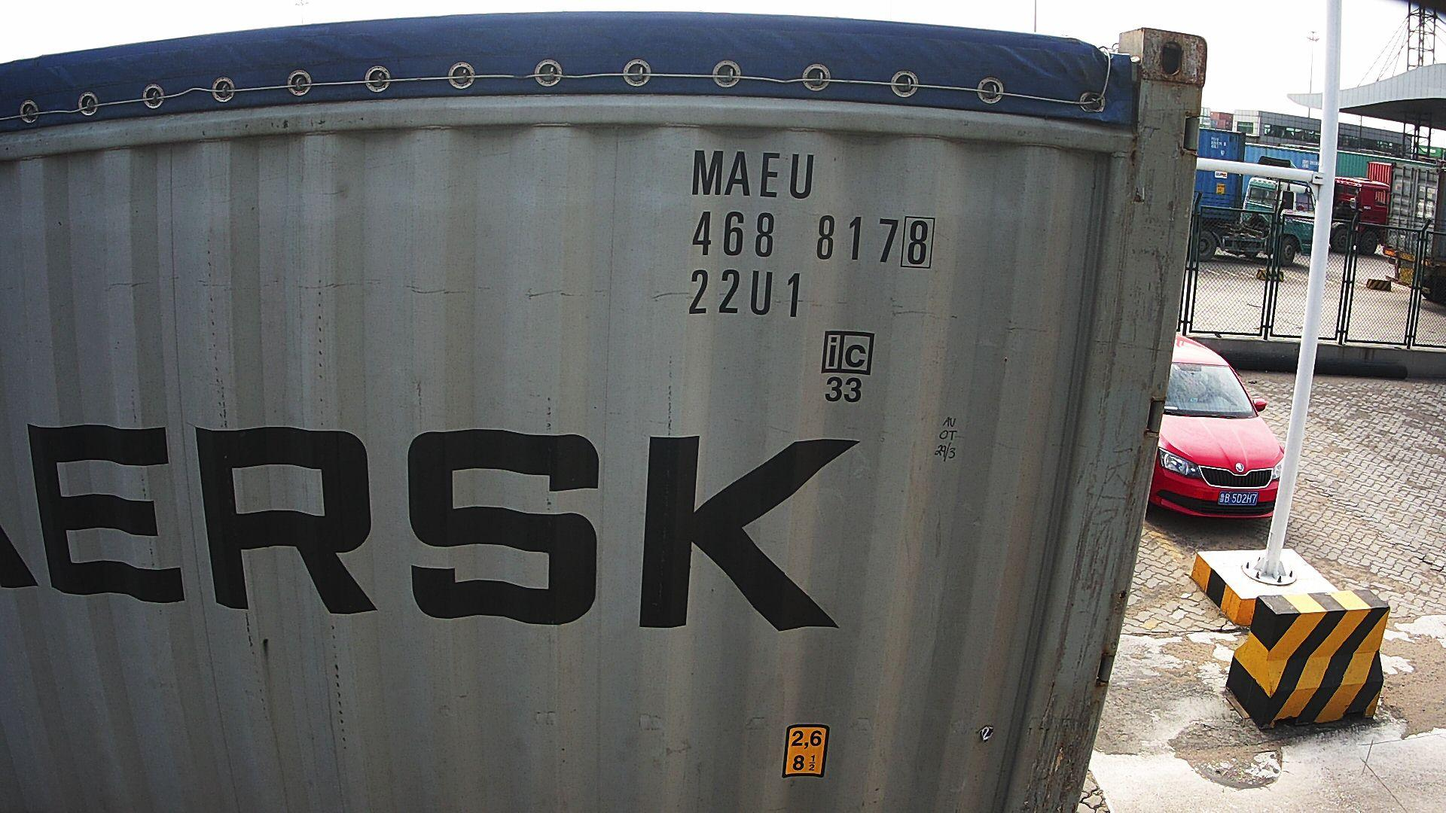container-numbers: (687, 207, 941, 270), (685, 147, 818, 203), (682, 266, 807, 321)
